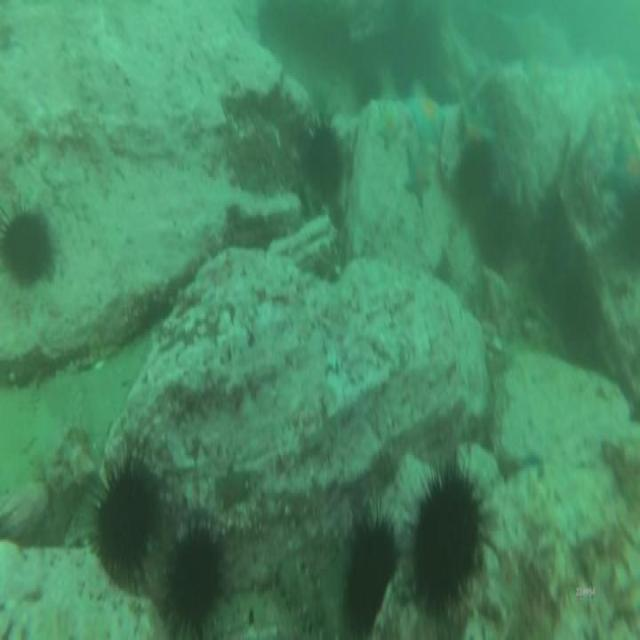echinus: (402, 458, 489, 624), (90, 450, 164, 591), (159, 518, 229, 640), (341, 501, 399, 630), (0, 191, 59, 296), (476, 180, 518, 269), (302, 119, 344, 207), (454, 133, 496, 205), (616, 183, 640, 253), (351, 58, 384, 106)
holothurian: (269, 547, 331, 640)
starfish: (407, 90, 446, 144), (402, 145, 433, 212), (374, 100, 402, 153), (616, 138, 640, 190)
